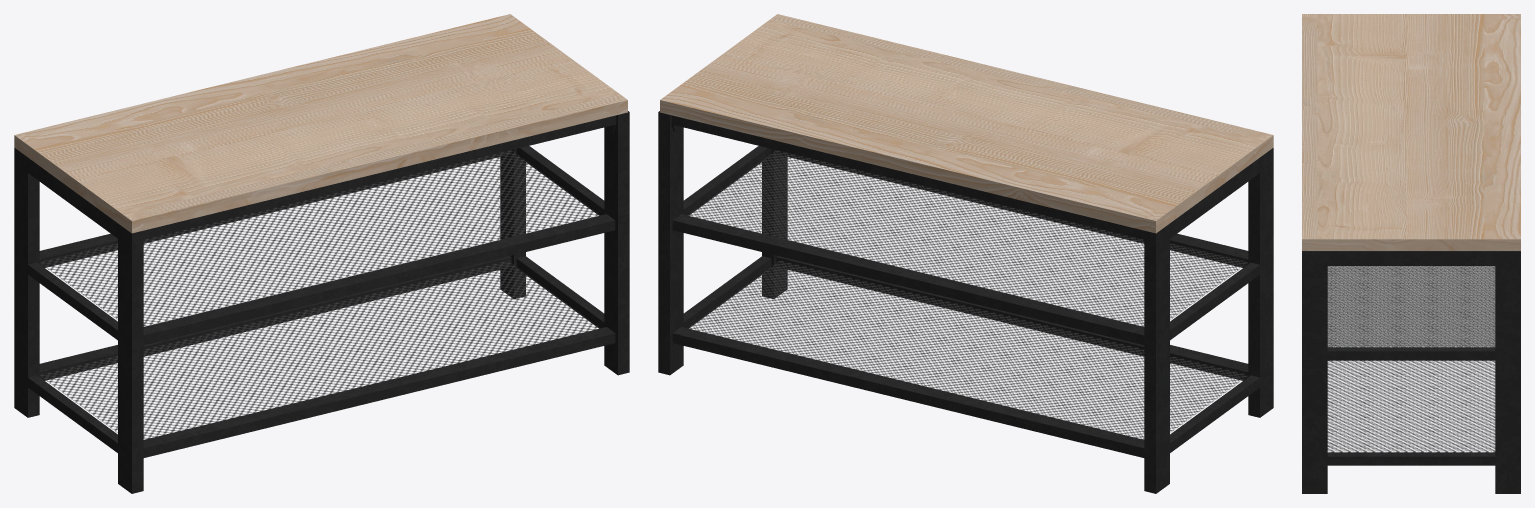
Rendered from shoe_rack_02.glb.
3 renders of one model, left to right at view 1: azimuth 30°, elevation 25°; view 2: azimuth 150°, elevation 25°; view 3: azimuth 270°, elevation 25°, orthographic. The views are drawn at different scales.
Visible parts, largest first — view 1: Plank_0, Frame_1, Grids_2; view 2: Grids_2, Plank_0, Frame_1; view 3: Plank_0, Grids_2, Frame_1.
Boxes of the visible parts, <box> form: Plank_0: <box>14,14,627,233</box>; Frame_1: <box>14,111,629,493</box>; Grids_2: <box>40,150,599,438</box>; Grids_2: <box>687,150,1247,439</box>; Plank_0: <box>660,14,1273,233</box>; Frame_1: <box>658,111,1273,493</box>; Plank_0: <box>1302,14,1520,250</box>; Grids_2: <box>1327,266,1495,452</box>; Frame_1: <box>1302,251,1520,493</box>.
Bounding box in the file's own units: 0.8405 × 0.4402 × 0.3438.
3 materials, 3 textured.
